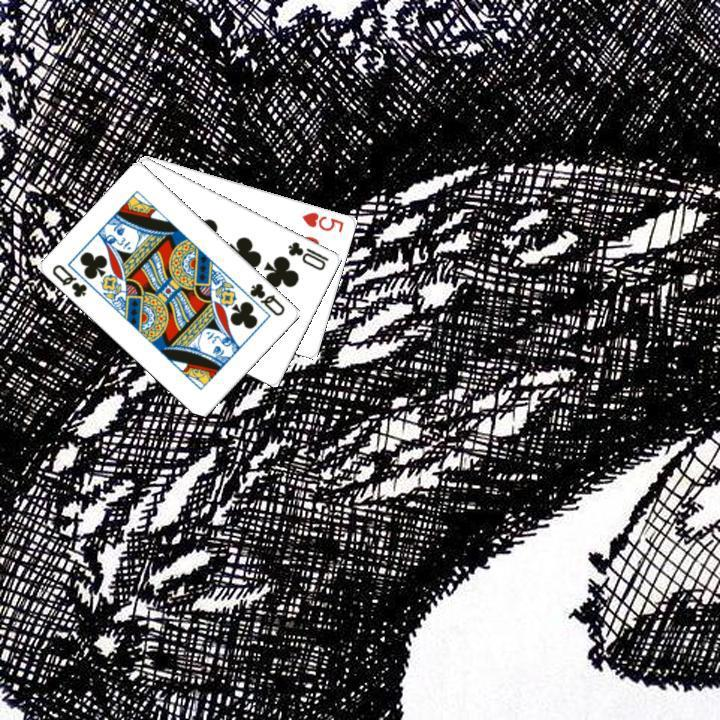10: (284, 237, 331, 272)
5: (298, 207, 346, 235)
Q: (48, 260, 90, 300), (245, 279, 287, 318)
